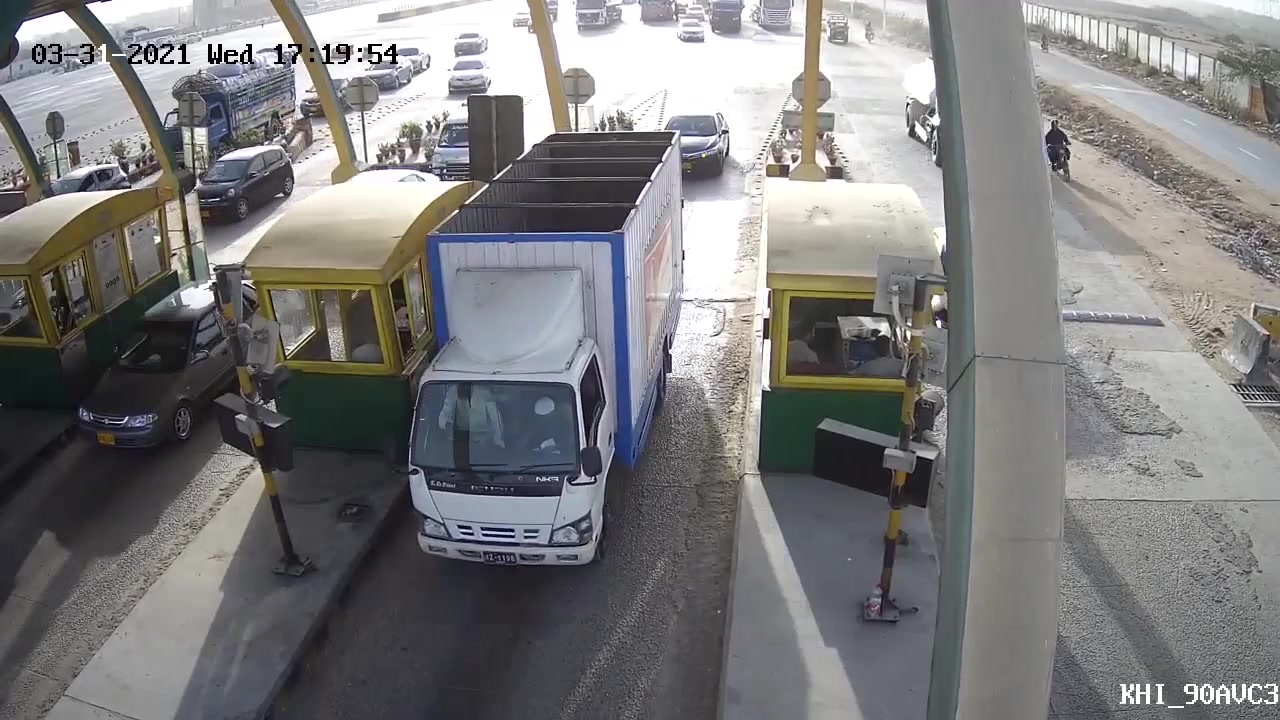F3: (404, 130, 687, 579)
